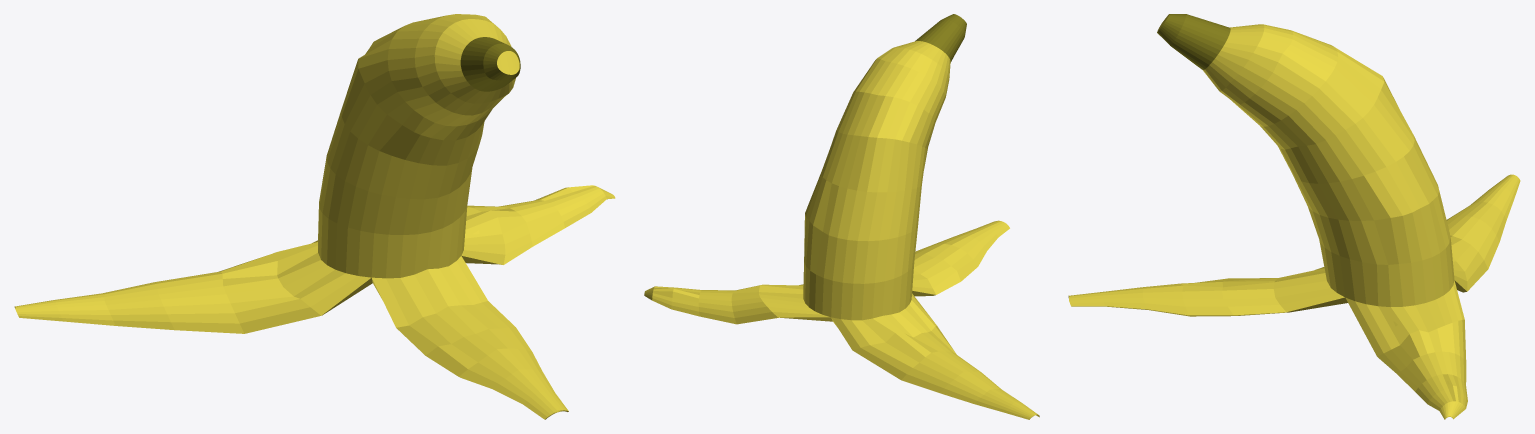
The model's file is banana split.fbx.
3 views of the same model, side by side, from view 1: azimuth 30°, elevation 25°; view 2: azimuth 150°, elevation 25°; view 3: azimuth 270°, elevation 25° (orthographic). The views are drawn at different scales.
Visible parts, largest first — view 1: Cylinder.001; view 2: Cylinder.001; view 3: Cylinder.001.
Part boxes in pixels (<box>): Cylinder.001: <box>14,14,615,419</box>; Cylinder.001: <box>644,14,1039,419</box>; Cylinder.001: <box>1068,14,1520,419</box>.
Size of the model in its own units: 945 by 553 by 734.
